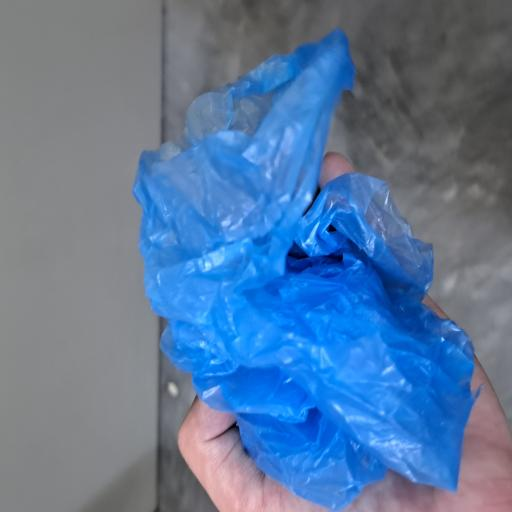plastic bag: (39, 6, 379, 479)
